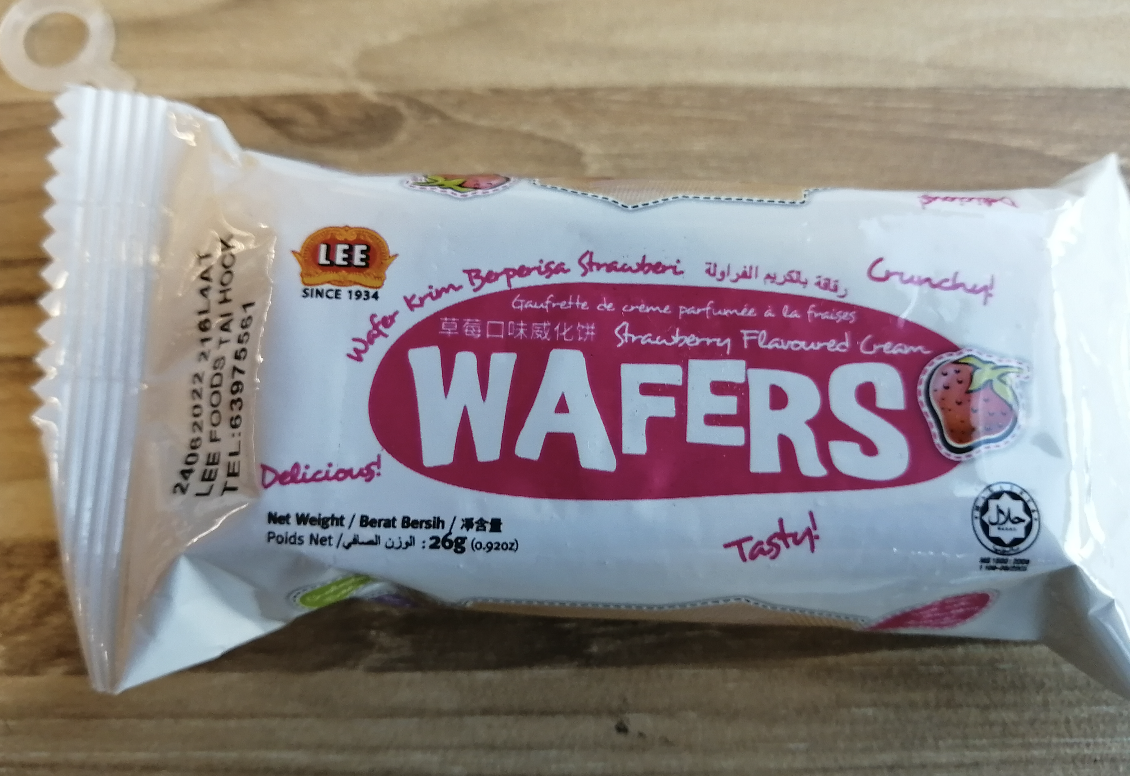Wafers: (87, 185, 1112, 610)
